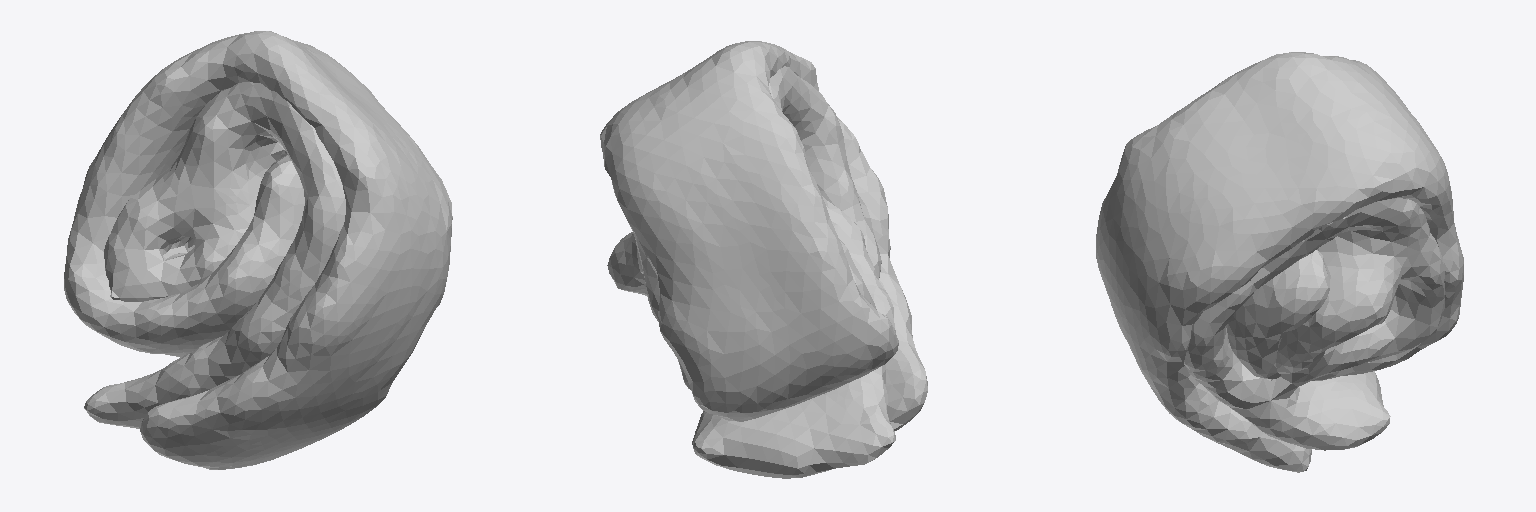
File: cake1_1.obj
The picture shows the model from 3 angles: view 1: azimuth 30°, elevation 25°; view 2: azimuth 150°, elevation 25°; view 3: azimuth 270°, elevation 25°; orthographic projection.
Bounding box in the file's own units: 0.2663 × 0.3431 × 0.2732.